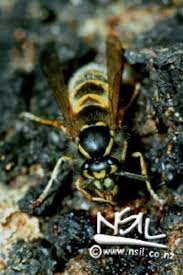chax: (40, 45, 158, 205)
